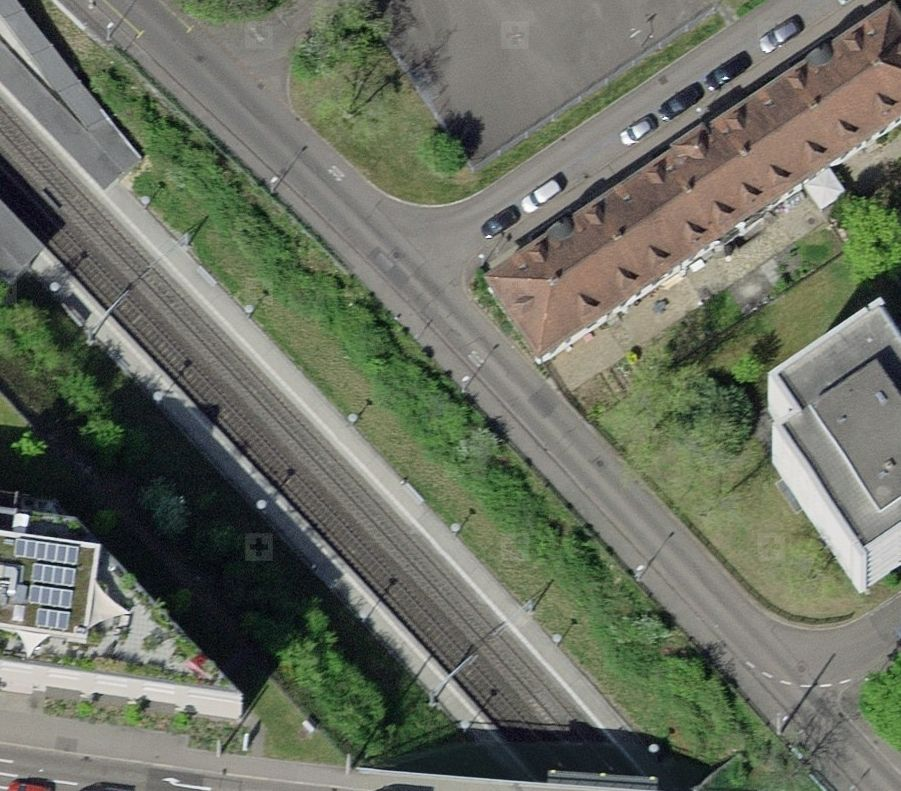solar: (15, 535, 79, 632)
